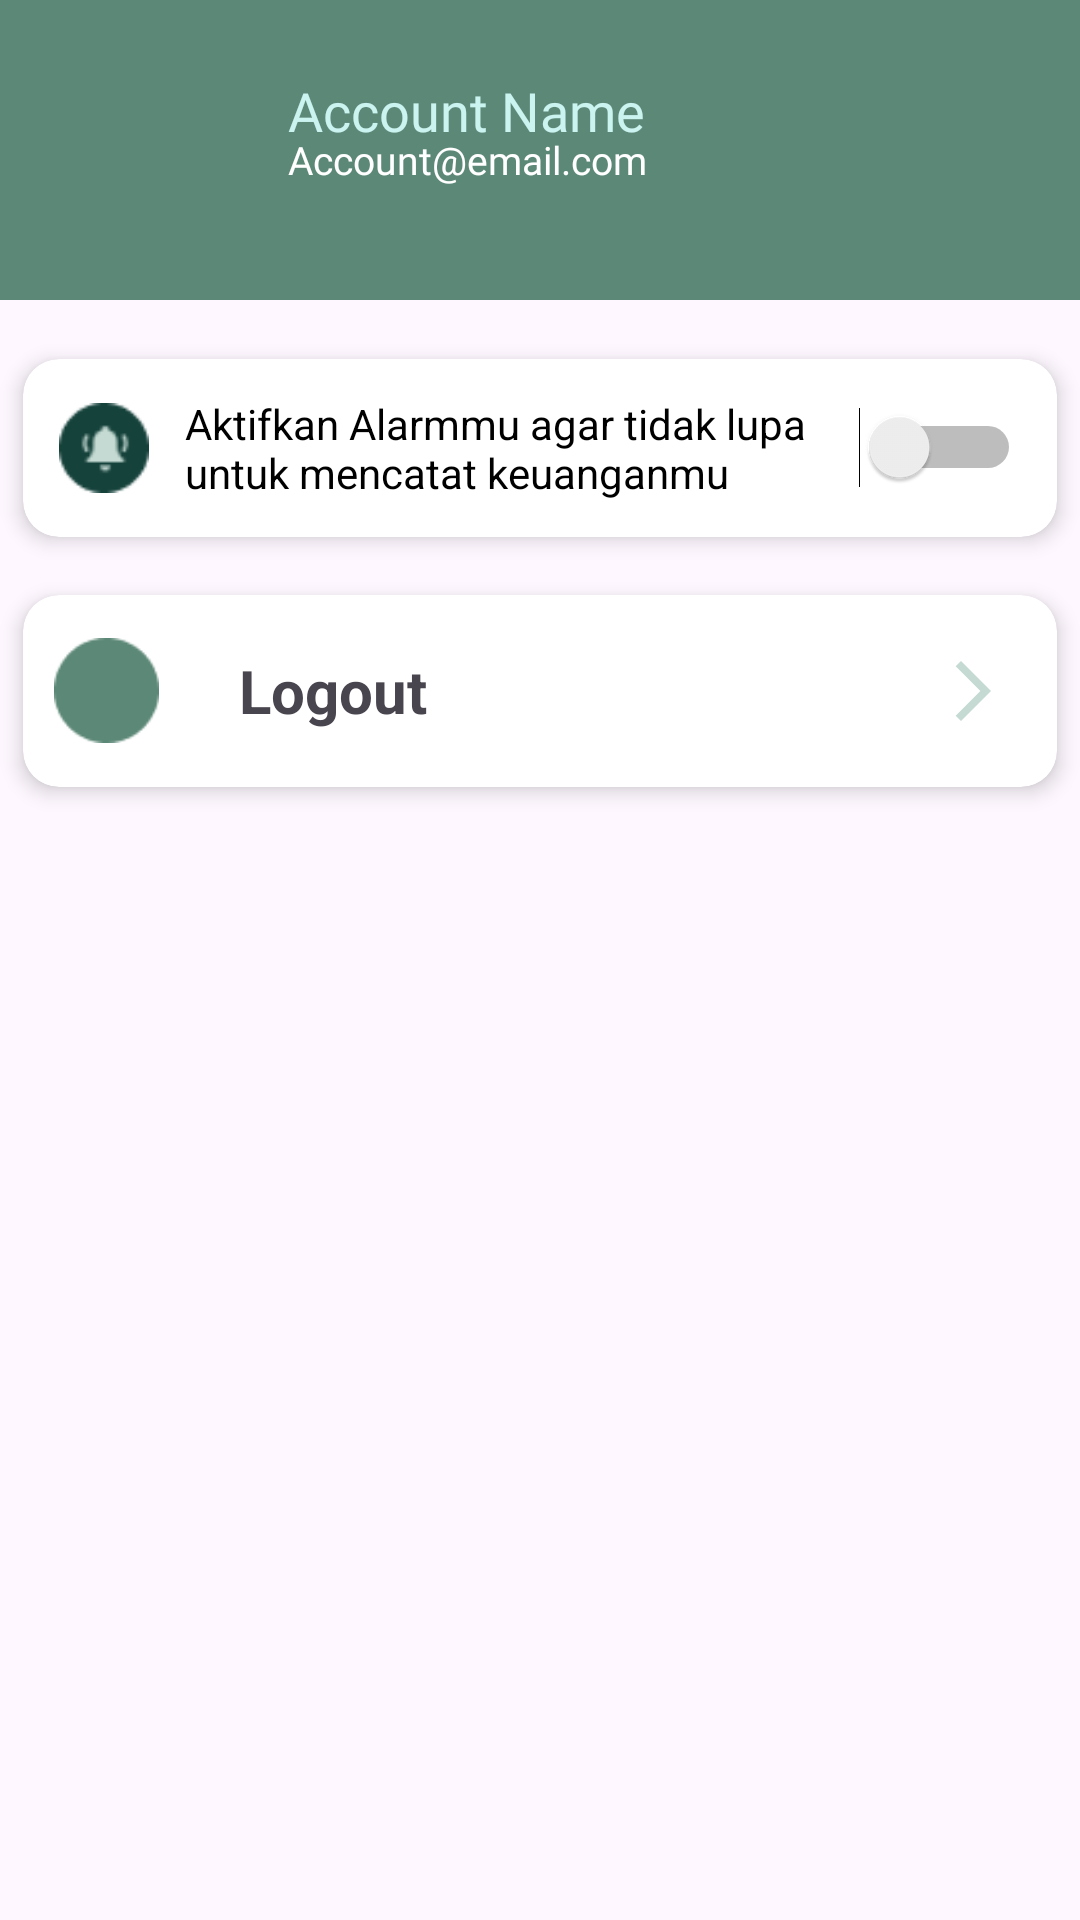

Where to tap for icons on this 1080w x 1920h app screen, as [x,y]:
arrow right: [973,691]
